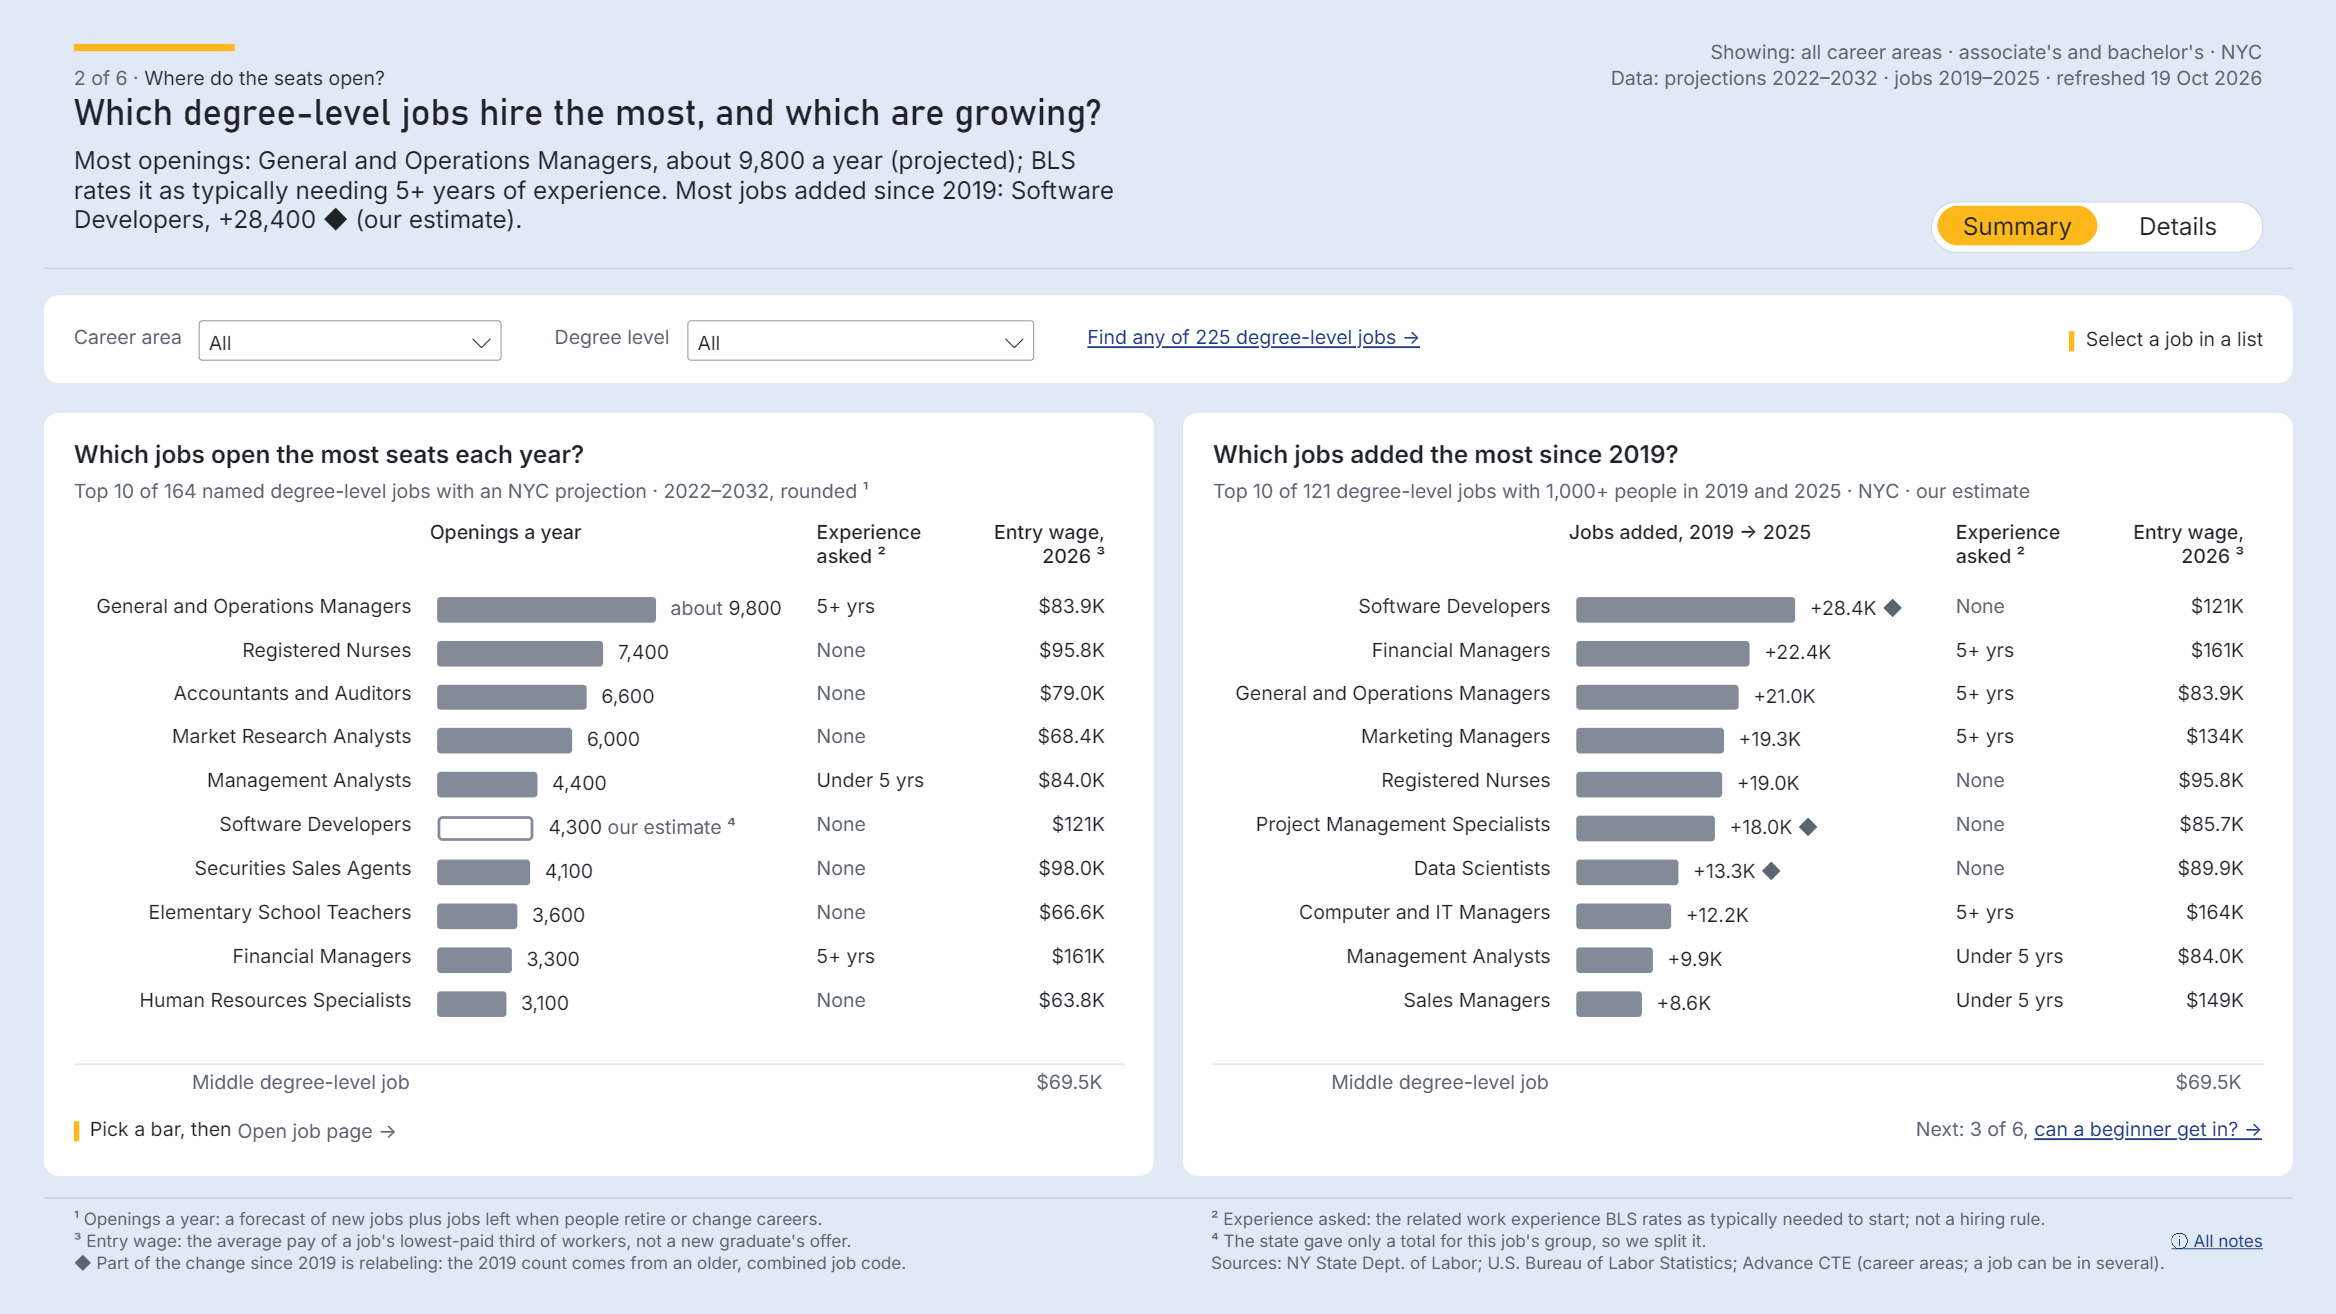

The page's visual inventory and layout, read from the dashboard file:
{"tool":"powerbi","page":{"name":"Jobs","canvas":[1280,720],"ordinal":1},"visuals":[{"type":"shape","box":[40,24,88,4],"z":2000},{"type":"textbox","box":[40,36,576,14],"z":3000},{"type":"textbox","box":[40,50,576,28],"z":4000},{"type":"shape","box":[40,80,576,52],"z":5000},{"type":"shape","box":[664,22,576,14],"z":6000},{"type":"shape","box":[664,36,576,14],"z":7000},{"type":"shape","box":[24,146,1232,1],"z":8000},{"type":"shape","box":[24,162,1232,48],"z":9000},{"type":"textbox","box":[40,178,64,16],"z":10000},{"type":"slicer","fields":{"Values":["dim_cluster.cluster_name"]},"box":[104,170,176,32],"z":11000},{"type":"textbox","box":[304,178,68,16],"z":12000},{"type":"slicer","fields":{"Values":["dim_degree_level.degree_level"]},"box":[372,170,200,32],"z":13000},{"type":"actionButton","box":[596,178,240,16],"z":14000},{"type":"actionButton","box":[1080,170,160,32],"z":15000},{"type":"image","box":[1133,181,3,11],"z":16000},{"type":"shape","box":[24,226,608,418],"z":17000},{"type":"shape","box":[648,226,608,418],"z":18000},{"type":"group","id":"g1","title":"Summary view","box":[24,226,1232,418],"z":19000},{"type":"textbox","box":[40,240,576,18],"z":20000,"group":"g1"},{"type":"shape","box":[40,262,576,16],"z":21000,"group":"g1"},{"type":"tableEx","fields":{"Values":["dim_job.job_label","_Measures.Job name","_Measures.S1 bar","_Measures.Job experience asked","_Measures.Job starting pay","_Measures.L1 openings"]},"box":[40,282,576,296],"z":22000,"group":"g1"},{"type":"shape","box":[40,582,576,1],"z":23000,"group":"g1"},{"type":"textbox","box":[40,586,184,16],"z":24000,"group":"g1"},{"type":"shape","box":[529,586,75,16],"z":25000,"group":"g1"},{"type":"textbox","box":[664,240,576,18],"z":26000,"group":"g1"},{"type":"shape","box":[664,262,576,16],"z":27000,"group":"g1"},{"type":"tableEx","fields":{"Values":["dim_job.job_label","_Measures.Job name","_Measures.S2 bar","_Measures.Job experience asked","_Measures.Job starting pay","_Measures.S2 added"]},"box":[664,282,576,296],"z":28000,"group":"g1"},{"type":"shape","box":[664,582,576,1],"z":29000,"group":"g1"},{"type":"textbox","box":[664,586,184,16],"z":30000,"group":"g1"},{"type":"shape","box":[1153,586,75,16],"z":31000,"group":"g1"},{"type":"shape","box":[40,614,3,11],"z":32000,"group":"g1"},{"type":"textbox","box":[49,612,80,16],"z":33000,"group":"g1"},{"type":"actionButton","box":[130,606,120,28],"z":34000,"group":"g1"},{"type":"shape","box":[1058,110,182,28],"z":46000},{"type":"bookmarkNavigator","box":[1061,113,176,22],"z":47000},{"type":"textbox","box":[664,612,576,16],"z":48000},{"type":"actionButton","box":[1040,612,200,16],"z":49000},{"type":"shape","box":[40,662,576,12],"z":50000},{"type":"shape","box":[664,662,576,12],"z":51000},{"type":"shape","box":[40,674,576,12],"z":52000},{"type":"shape","box":[664,674,504,12],"z":53000},{"type":"shape","box":[40,686,576,12],"z":54000},{"type":"shape","box":[664,686,576,12],"z":55000},{"type":"shape","box":[24,656,1232,1],"z":56000},{"type":"actionButton","box":[1184,674,56,14],"z":57000}]}

Visuals, with their boxes in screenshot pixels (x1, y1, x2, y2), scaled from the page's 1280x720 canvas onto the 2336x1314 screenshot:
shape: crop(73, 44, 234, 51)
textbox: crop(73, 66, 1124, 91)
textbox: crop(73, 91, 1124, 142)
shape: crop(73, 146, 1124, 241)
shape: crop(1212, 40, 2263, 66)
shape: crop(1212, 66, 2263, 91)
shape: crop(44, 266, 2292, 268)
shape: crop(44, 296, 2292, 383)
textbox: crop(73, 325, 190, 354)
slicer - dim_cluster.cluster_name: crop(190, 310, 511, 369)
textbox: crop(555, 325, 679, 354)
slicer - dim_degree_level.degree_level: crop(679, 310, 1044, 369)
actionButton: crop(1088, 325, 1526, 354)
actionButton: crop(1971, 310, 2263, 369)
image: crop(2068, 330, 2073, 350)
shape: crop(44, 412, 1153, 1175)
shape: crop(1183, 412, 2292, 1175)
"Summary view" group: crop(44, 412, 2292, 1175)
textbox: crop(73, 438, 1124, 471)
shape: crop(73, 478, 1124, 507)
tableEx - dim_job.job_label x _Measures.Job name: crop(73, 515, 1124, 1055)
shape: crop(73, 1062, 1124, 1064)
textbox: crop(73, 1069, 409, 1099)
shape: crop(965, 1069, 1102, 1099)
textbox: crop(1212, 438, 2263, 471)
shape: crop(1212, 478, 2263, 507)
tableEx - dim_job.job_label x _Measures.Job name: crop(1212, 515, 2263, 1055)
shape: crop(1212, 1062, 2263, 1064)
textbox: crop(1212, 1069, 1548, 1099)
shape: crop(2104, 1069, 2241, 1099)
shape: crop(73, 1121, 78, 1141)
textbox: crop(89, 1117, 235, 1146)
actionButton: crop(237, 1106, 456, 1157)
shape: crop(1931, 201, 2263, 252)
bookmarkNavigator: crop(1936, 206, 2258, 246)
textbox: crop(1212, 1117, 2263, 1146)
actionButton: crop(1898, 1117, 2263, 1146)
shape: crop(73, 1208, 1124, 1230)
shape: crop(1212, 1208, 2263, 1230)
shape: crop(73, 1230, 1124, 1252)
shape: crop(1212, 1230, 2132, 1252)
shape: crop(73, 1252, 1124, 1274)
shape: crop(1212, 1252, 2263, 1274)
shape: crop(44, 1197, 2292, 1199)
actionButton: crop(2161, 1230, 2263, 1256)
